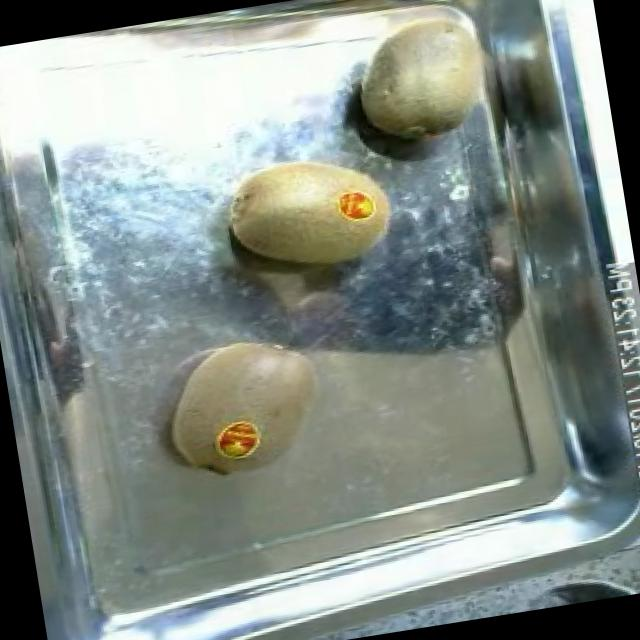Fruit: (146, 318, 344, 490), (210, 138, 402, 292), (331, 0, 514, 160)
